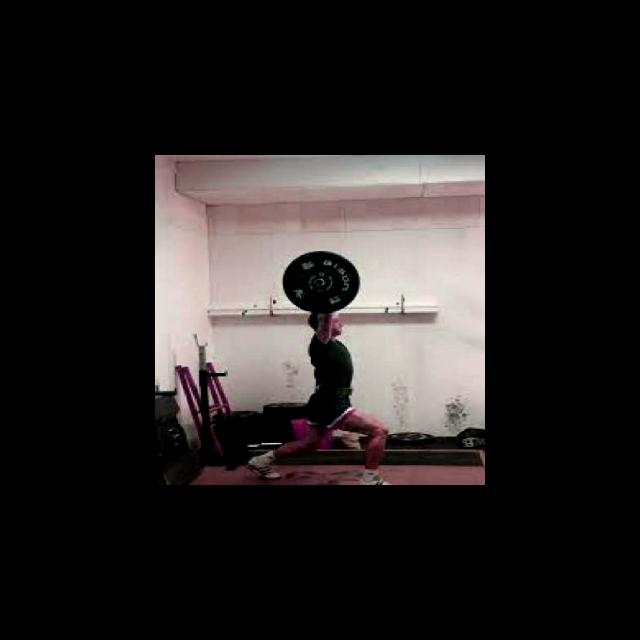barbell: (279, 248, 363, 317)
